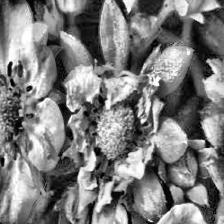Blossom Blight: (81, 86, 154, 183), (0, 59, 38, 169)
